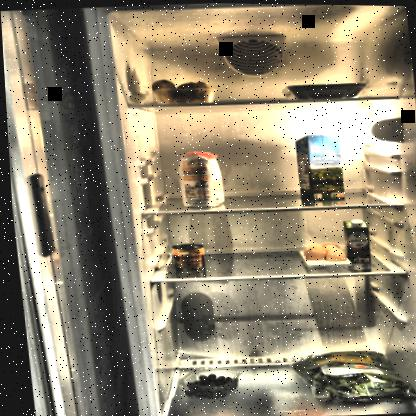blueberries: (178, 366, 237, 401)
corn: (167, 241, 204, 274)
eggs: (294, 236, 346, 262)
heavy_cream: (338, 216, 370, 265)
milk: (294, 132, 348, 201)
potato: (147, 76, 217, 104)
spinach: (283, 344, 415, 411)
